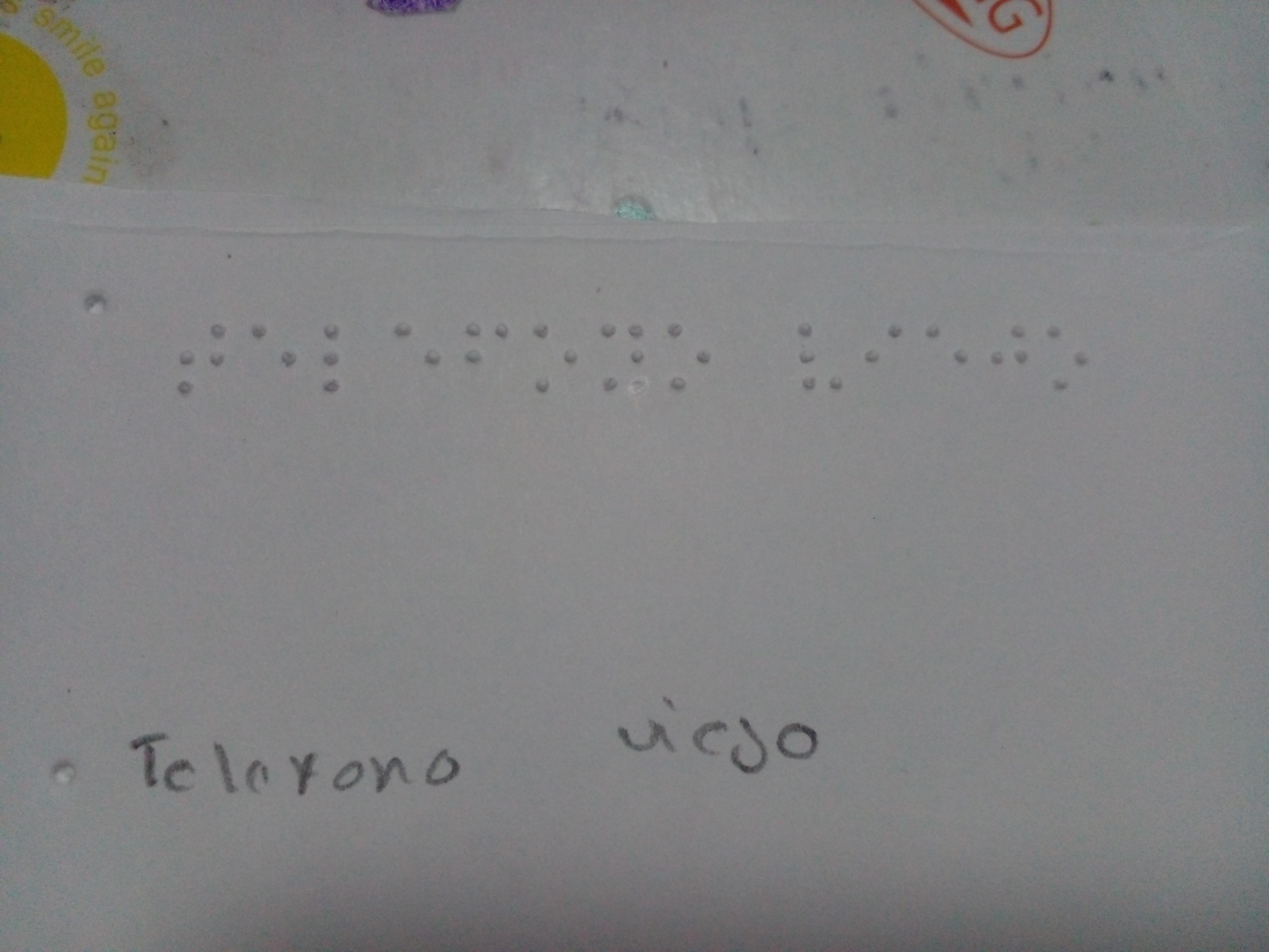e: (248, 311, 304, 384), (383, 321, 443, 378), (925, 316, 974, 373)
f: (459, 310, 511, 387)
i: (861, 316, 908, 386)
j: (987, 316, 1029, 386)
l: (301, 319, 358, 398)
n: (590, 310, 655, 404)
o: (1035, 305, 1101, 404), (530, 310, 578, 401), (663, 321, 713, 398)
t: (169, 308, 239, 400)
v: (782, 316, 850, 409)
